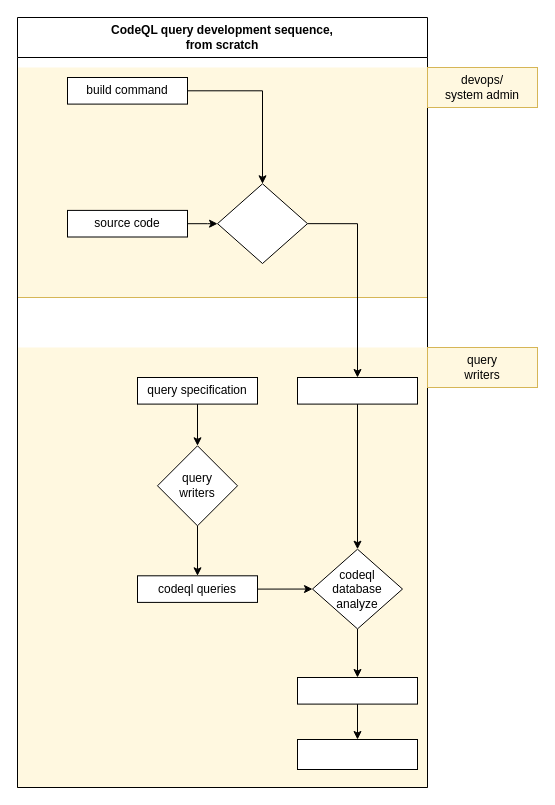
The diagram is 555 pixels wide and 805 high, and some of its shapes have lost their labels. Here are the shapes that lost their labels. From the top down, the centre of each, then its label:
point 262,223: codeql database create
point 357,390: codeql database
point 357,690: sarif (results) file
point 357,754: local viewer
